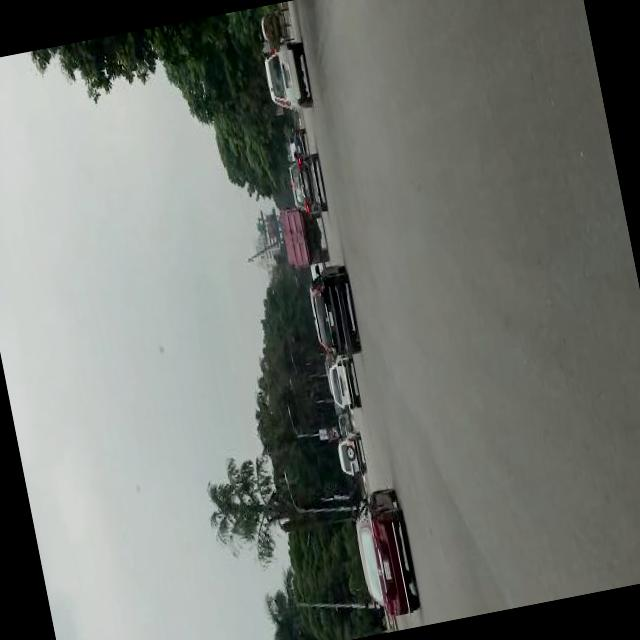car: (347, 486, 423, 624), (302, 261, 363, 362), (284, 148, 330, 220), (326, 357, 363, 416), (332, 428, 368, 481), (285, 125, 309, 154)
motorcycle: (258, 7, 296, 48), (338, 412, 353, 437)
truck: (259, 40, 316, 118), (278, 211, 332, 272)
